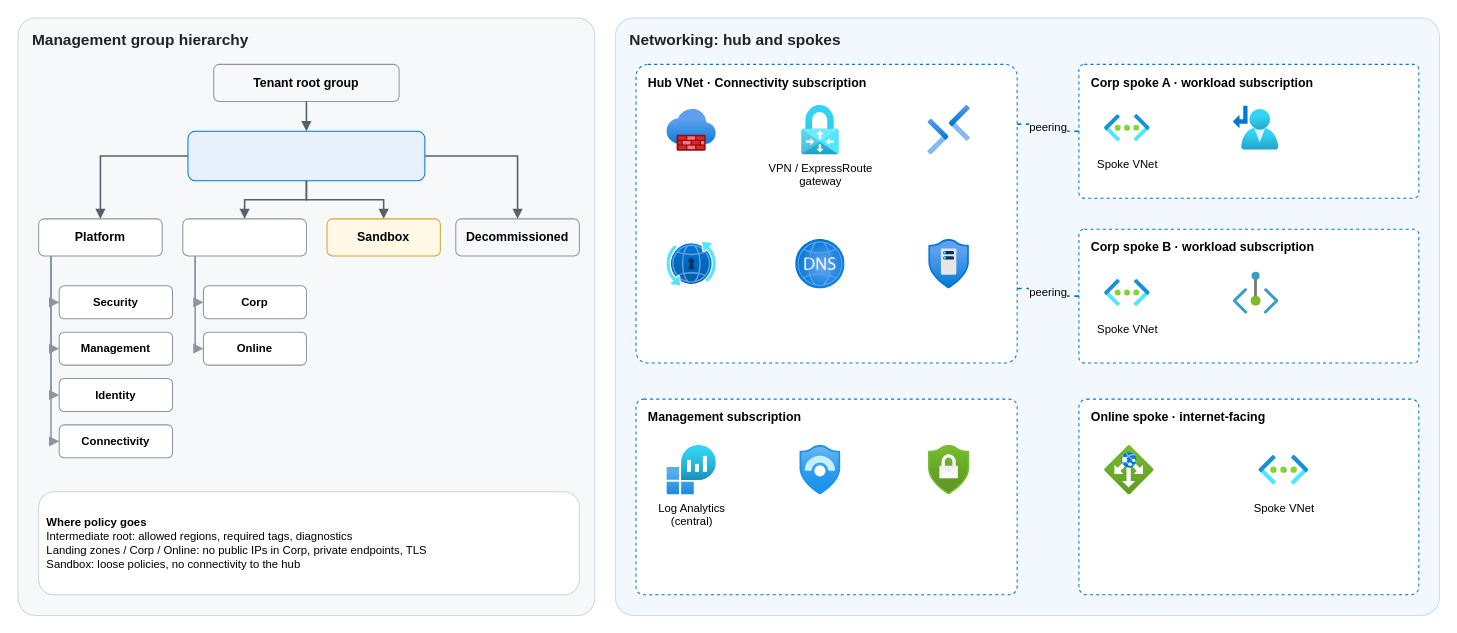
Image size: 1457x633. Some labels were removed from this diagram. The shapes that lost their labels are listed below. From the top down, each one's centre as x and y in pixels, then its label:
(x=691, y=129): Azure Firewall (all egress, east-west)
(x=948, y=129): Bastion
(x=1255, y=127): UDR 0.0.0.0/0 → Firewall
(x=306, y=155): Intermediate root (org prefix) org-wide policy and RBAC here
(x=244, y=237): Landing zones
(x=691, y=263): DNS Private Resolver
(x=820, y=263): Private DNS zones (privatelink.*)
(x=948, y=263): DDoS Network Protection plan
(x=1255, y=292): Private endpoints for PaaS
(x=820, y=469): Microsoft Sentinel
(x=948, y=469): Defender for Cloud
(x=1129, y=469): Application Gateway WAF v2
